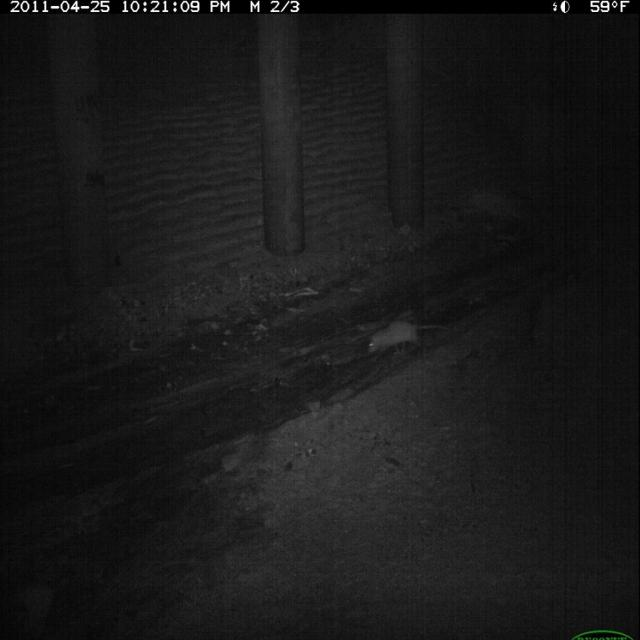opossum: (364, 314, 453, 369)
